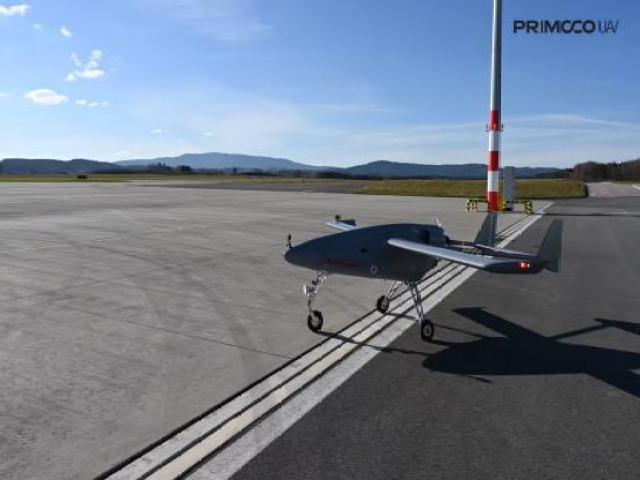uav: (284, 207, 568, 334)
